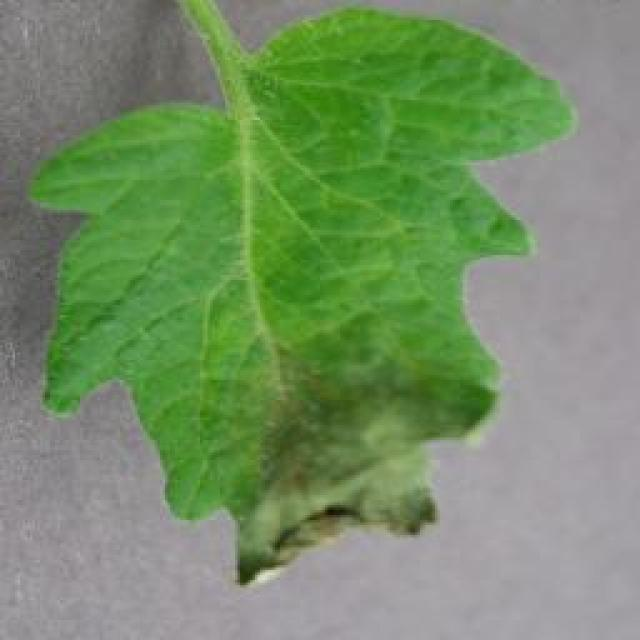Tomato Late Blight: (185, 317, 503, 600)
